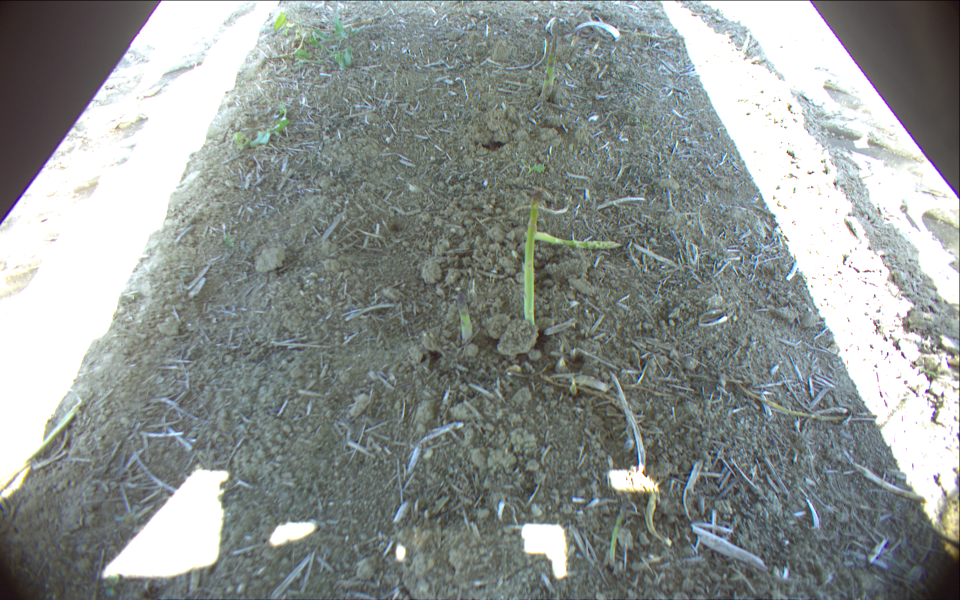aspa: (262, 15, 376, 63), (728, 381, 847, 421), (523, 192, 538, 323), (539, 19, 560, 95), (531, 232, 621, 249), (607, 498, 627, 567), (609, 26, 675, 43), (458, 289, 471, 343)
